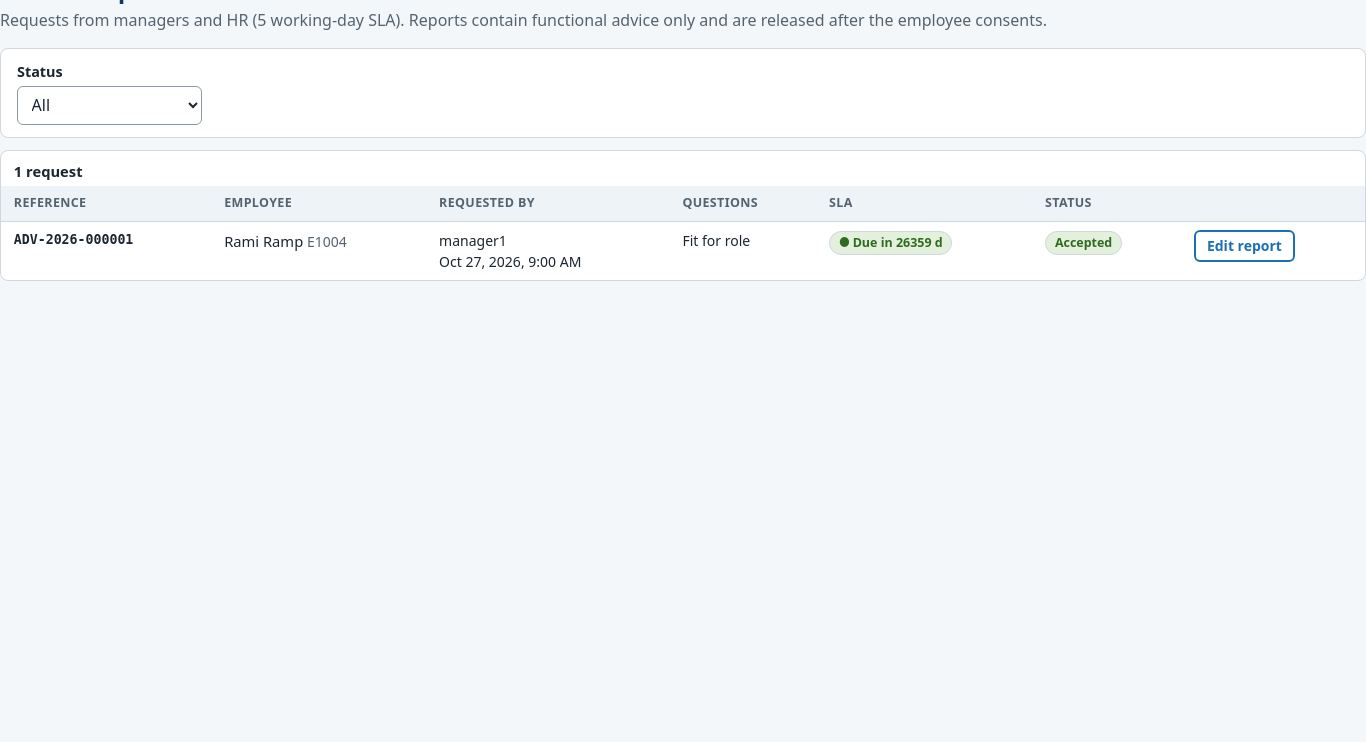
AbsenceAdvice › requires answers before saving and signs after a successful save
The image size is (1366, 742).
Later steps or results of the test are not shown.
Click the button with aria-label "Open report for ADV-2026-000001". click: coordinates (1244, 246)
box: [1194, 230, 1295, 262]
(page scrolled)
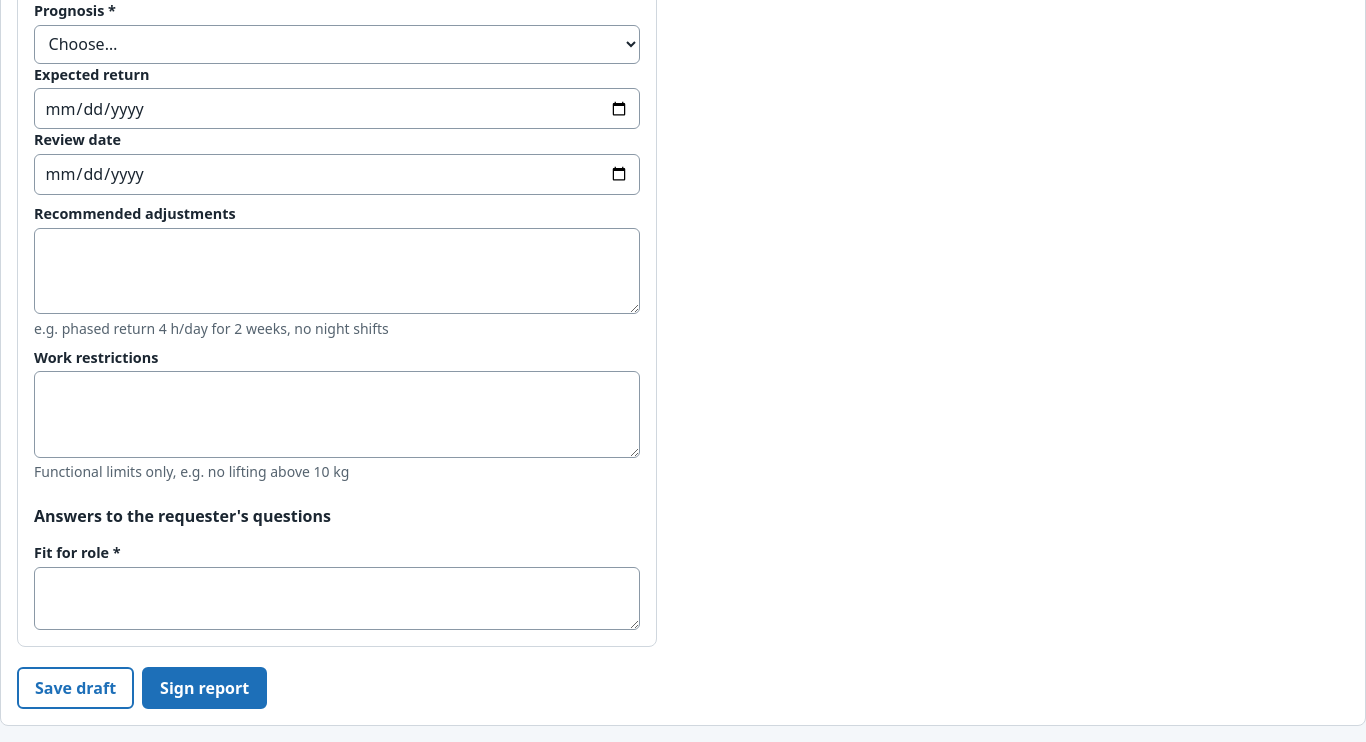
Click the button "Sign report". click: coordinates (205, 688)
box: [142, 667, 267, 709]
(page scrolled)
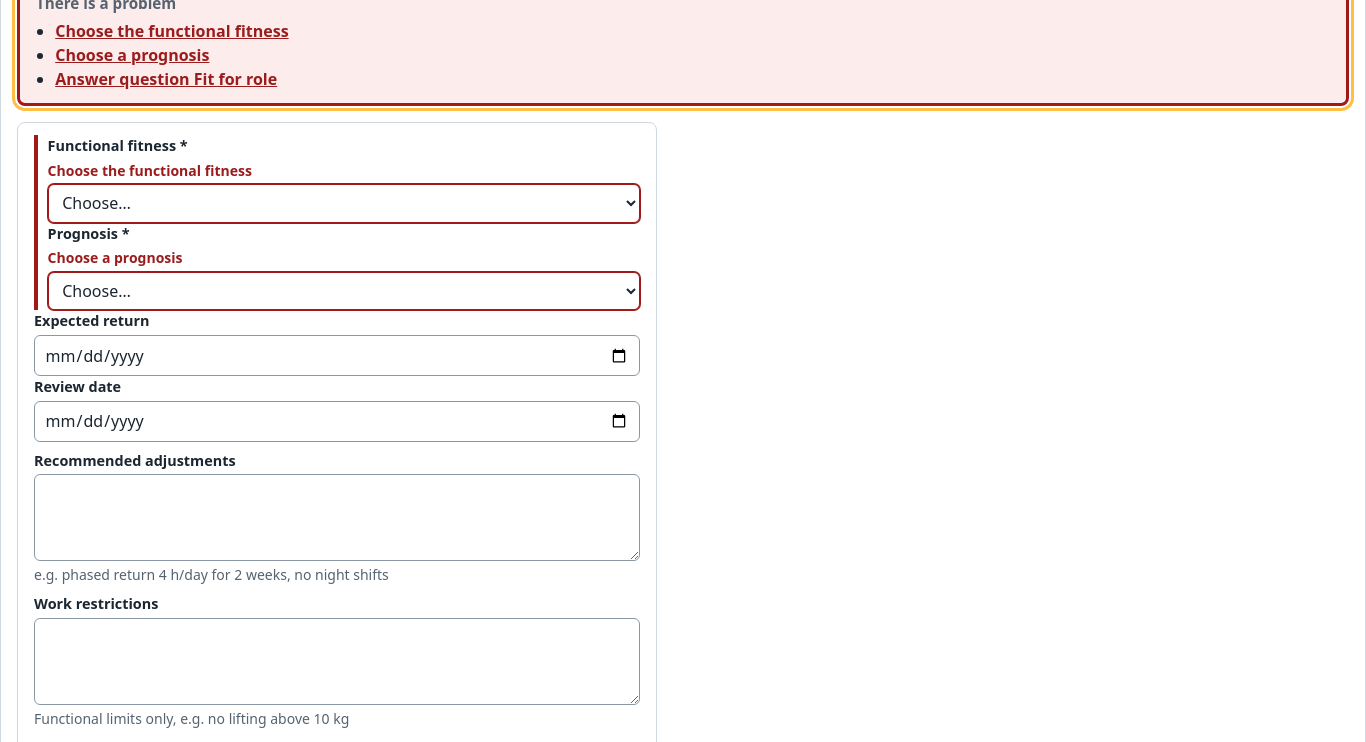
Now the message shows "Choose the functional fitness", box [55, 20, 289, 42]
